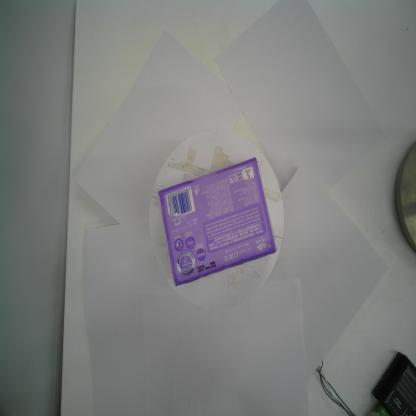Tissue: (157, 154, 279, 291)
